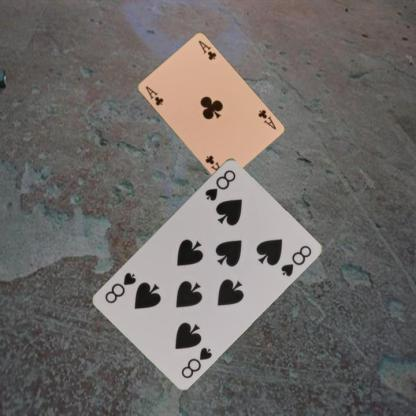8s: (202, 166, 238, 202), (178, 344, 213, 379)
Ac: (142, 83, 165, 107), (256, 107, 278, 130)
